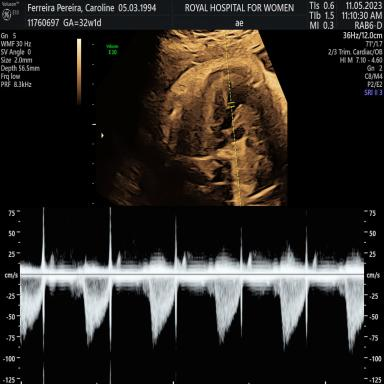Ultrasound-Waves: (26, 208, 363, 384)
